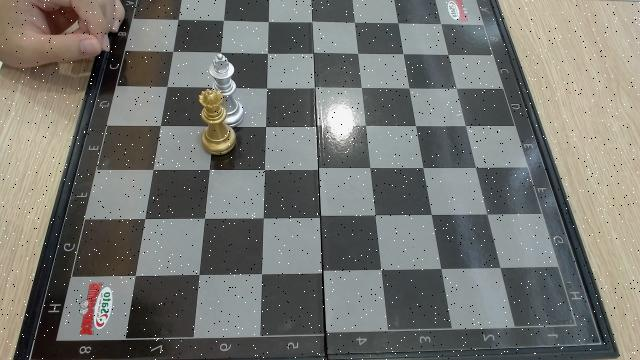black_queen: (198, 89, 231, 155)
white_king: (210, 53, 238, 89)
